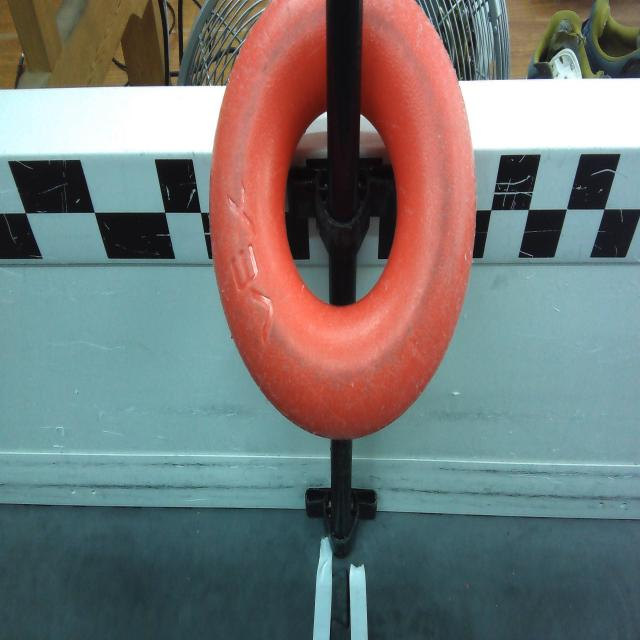Red-Ring: (210, 0, 476, 442)
